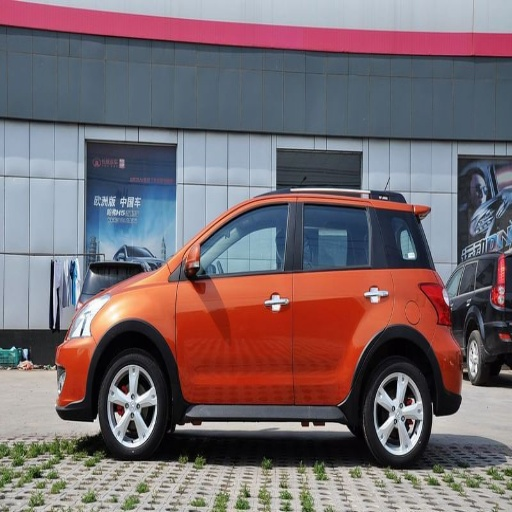back_left_door: (295, 197, 392, 403)
front_left_door: (176, 198, 298, 402)
